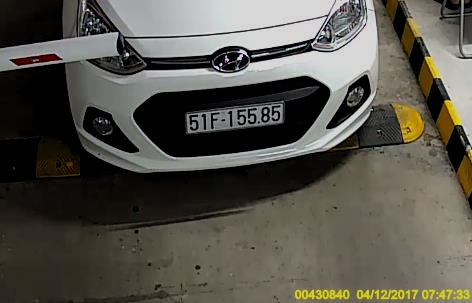plate: (185, 104, 283, 131)
